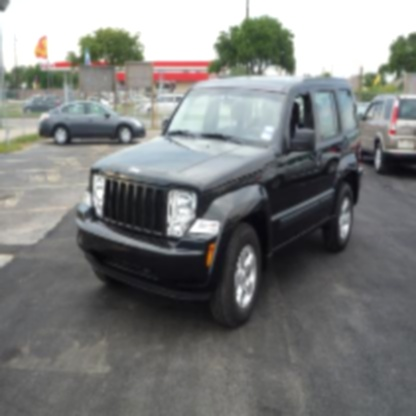Vehicle: (76, 76, 361, 330)
